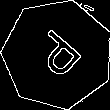P_SE: (26, 24, 89, 85)
